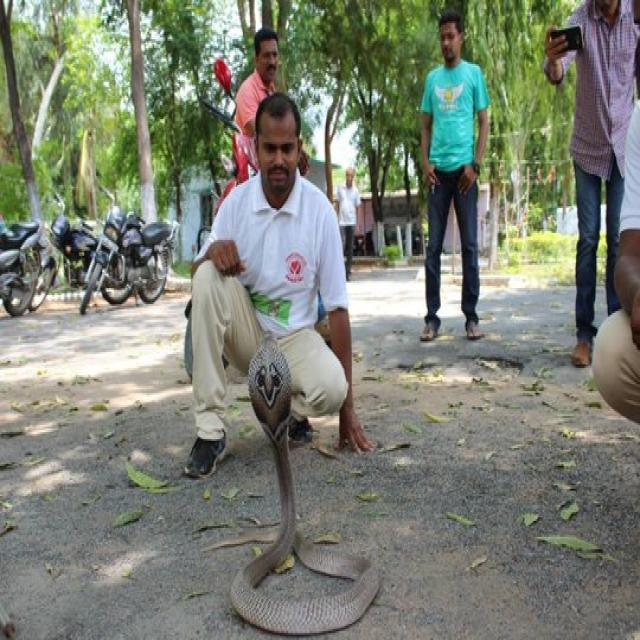Snake: (202, 330, 380, 634)
